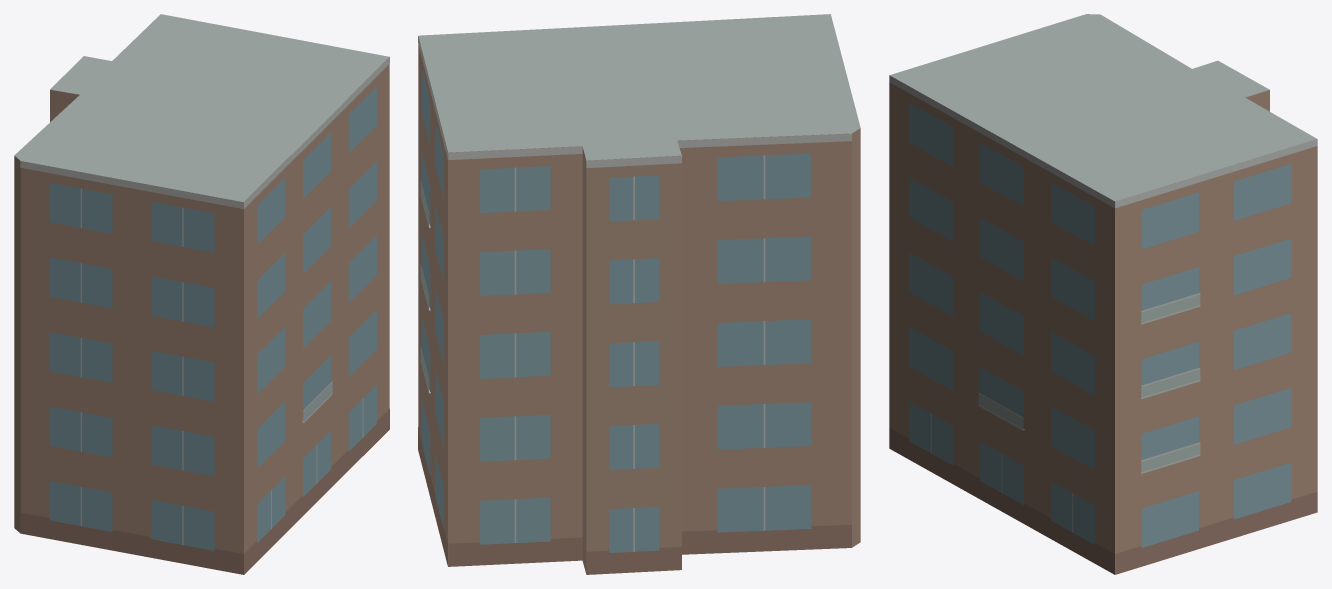
Rendered from survey-upis-32754530.glb.
3 views of the same model, side by side, from view 1: azimuth 30°, elevation 25°; view 2: azimuth 150°, elevation 25°; view 3: azimuth 270°, elevation 25° (orthographic). The views are drawn at different scales.
Parts seen in each view (by area): view 1: survey-upis-32754530.tmp; view 2: survey-upis-32754530.tmp; view 3: survey-upis-32754530.tmp.
Part boxes in pixels (<box>): survey-upis-32754530.tmp: <box>14,14,389,574</box>; survey-upis-32754530.tmp: <box>418,14,860,574</box>; survey-upis-32754530.tmp: <box>889,14,1317,574</box>.
Bounding box in the file's own units: 14.23 × 13.2 × 13.73.
